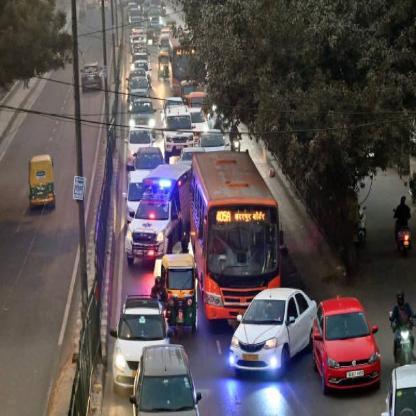auto-rikshaw: (159, 247, 199, 337)
bike: (386, 278, 416, 376)
bus: (189, 152, 287, 326)
car: (306, 293, 381, 399), (112, 291, 169, 394), (132, 342, 204, 416)
priority: (128, 165, 188, 263)
